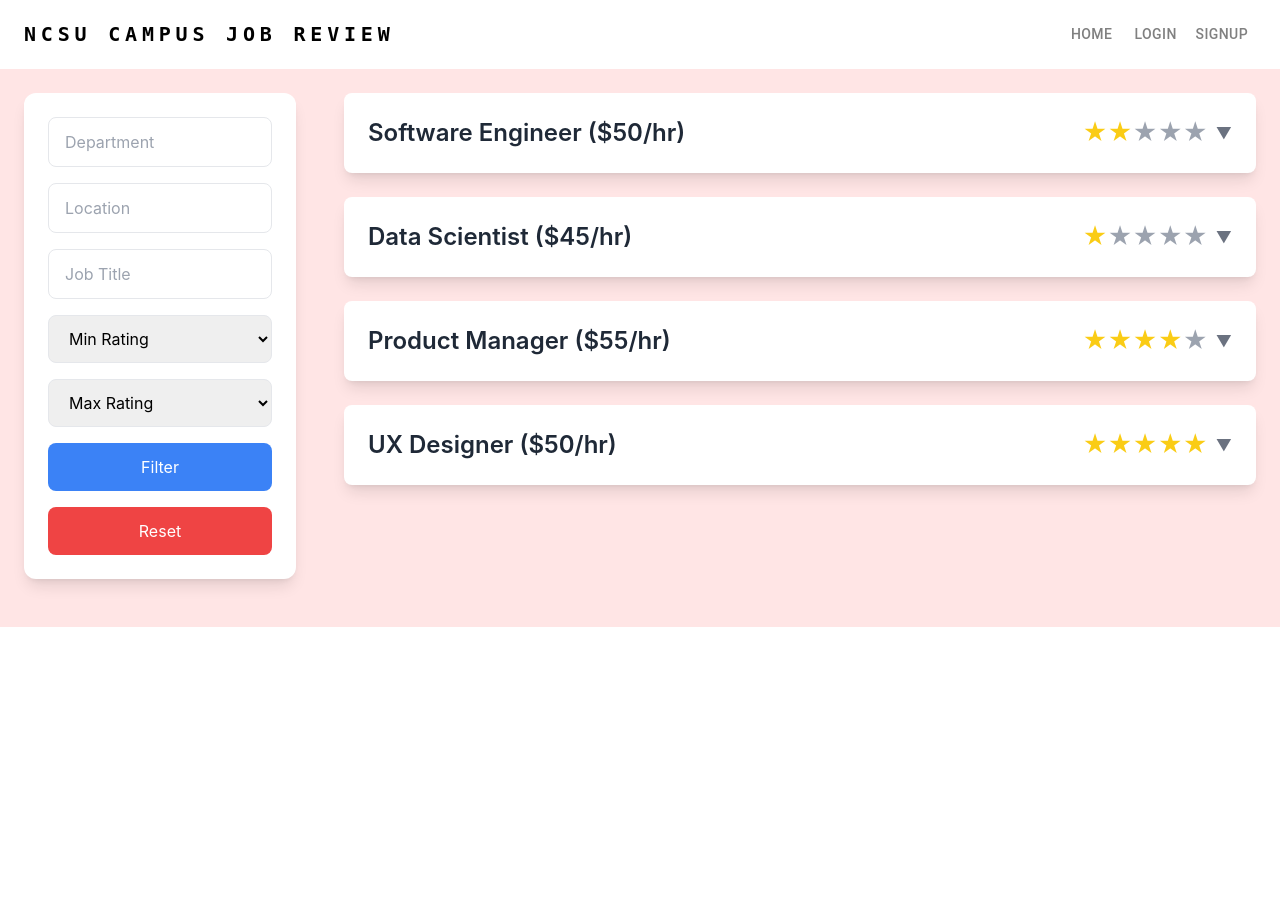
ViewReview Component › Filters reviews based on minimum rating
This screenshot has width=1280, height=900.
// Select 3 as the minimum rating the drop down menu
Select "3" in the dropdown named "Min Rating" at x=160, y=338, box left=48, top=314, right=272, bottom=362
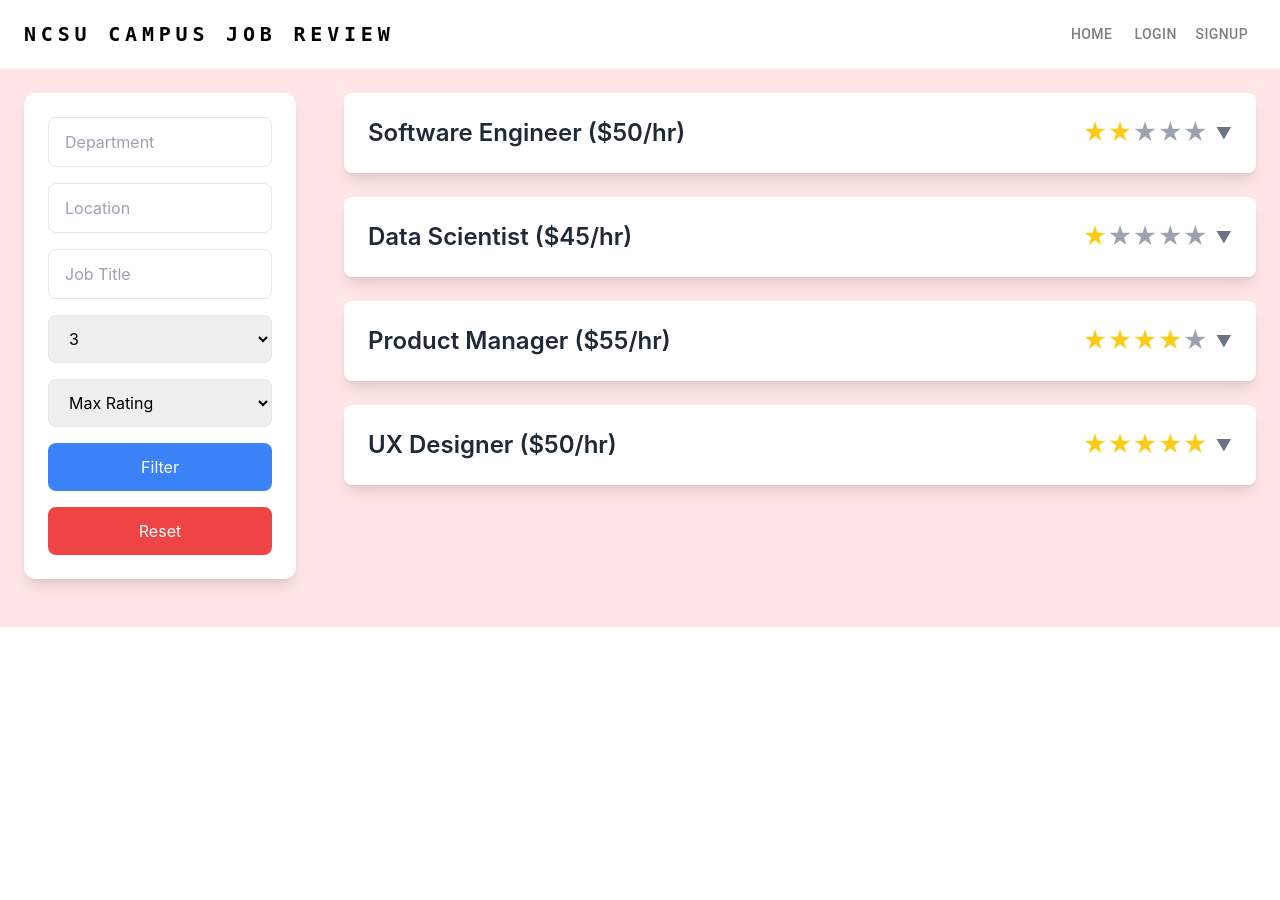
// click on the filter button
Click the button "Filter" at x=160, y=466, box left=48, top=442, right=272, bottom=490
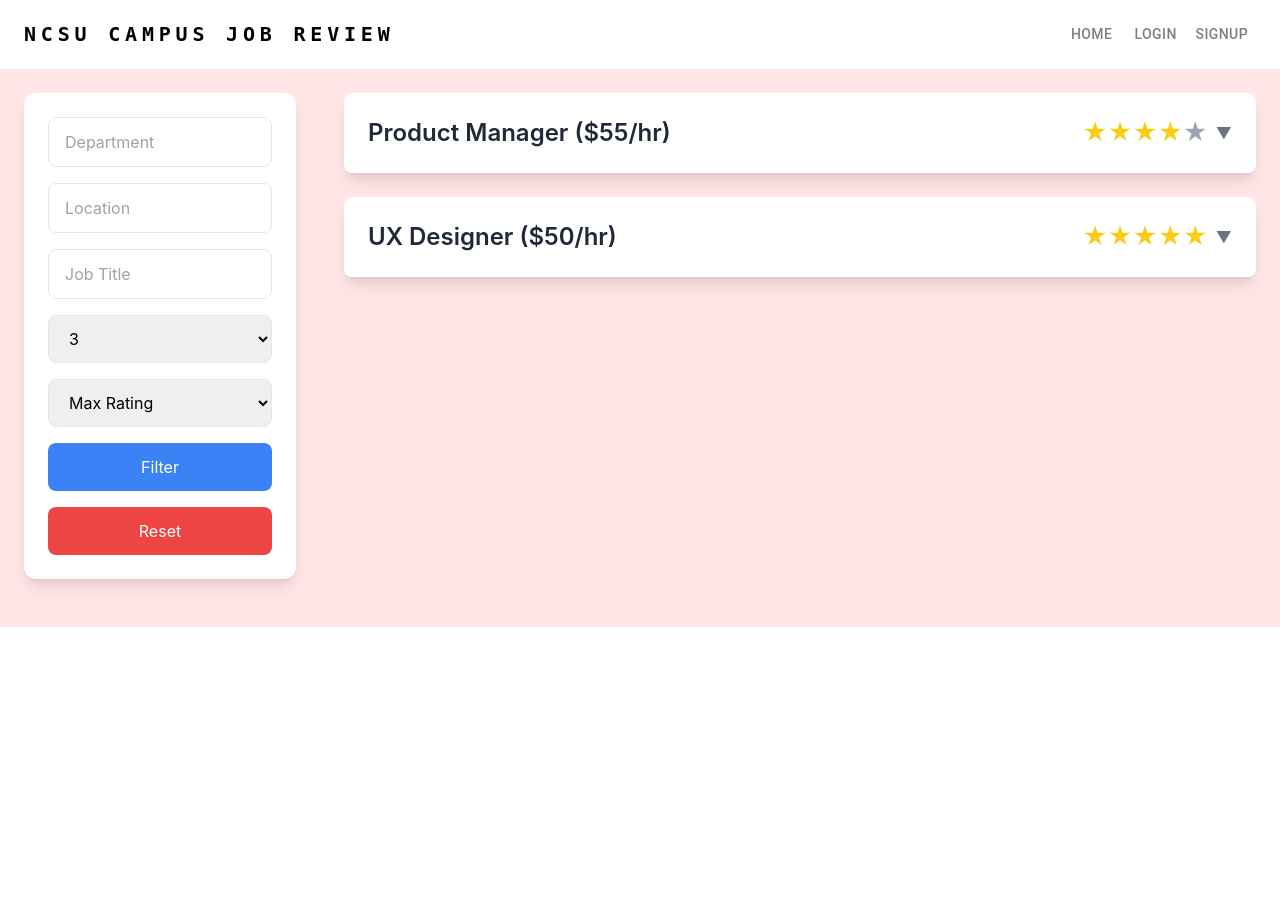
Expected: the link "Software Engineer" is gone
Expected: the link "Data Scientist" is gone
Expected: the link "Product Manager ($55/hr)" is shown, left=368, top=118, right=671, bottom=146
